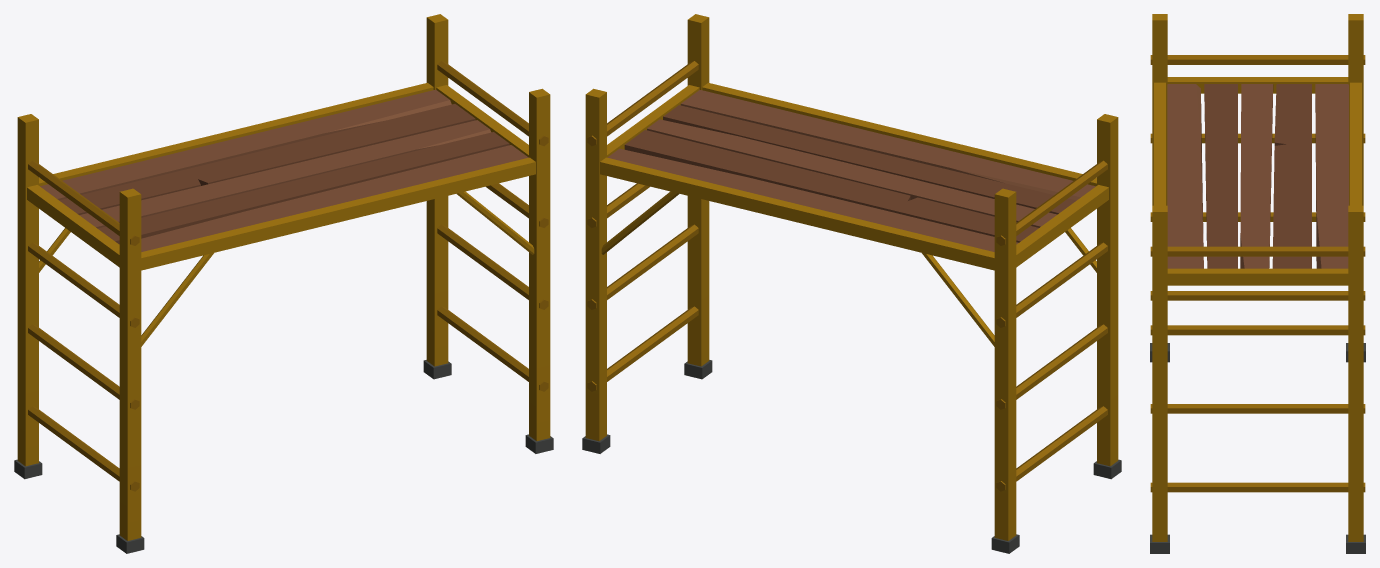
Rendered from SM_Props_Scaffolding_01.glb.
3 views of the same model, side by side, from view 1: azimuth 30°, elevation 25°; view 2: azimuth 150°, elevation 25°; view 3: azimuth 270°, elevation 25° (orthographic). The views are drawn at different scales.
Parts seen in each view (by area): view 1: SM_Props_Scaffolding_01; view 2: SM_Props_Scaffolding_01; view 3: SM_Props_Scaffolding_01.
Boxes of the visible parts, box(x1,y1,x2,y2) form: SM_Props_Scaffolding_01: box(14, 14, 553, 553); SM_Props_Scaffolding_01: box(582, 14, 1121, 553); SM_Props_Scaffolding_01: box(1150, 14, 1365, 553).
Size of the model in its own units: 3.15 by 2.5 by 1.43.
1 material, 1 textured.
